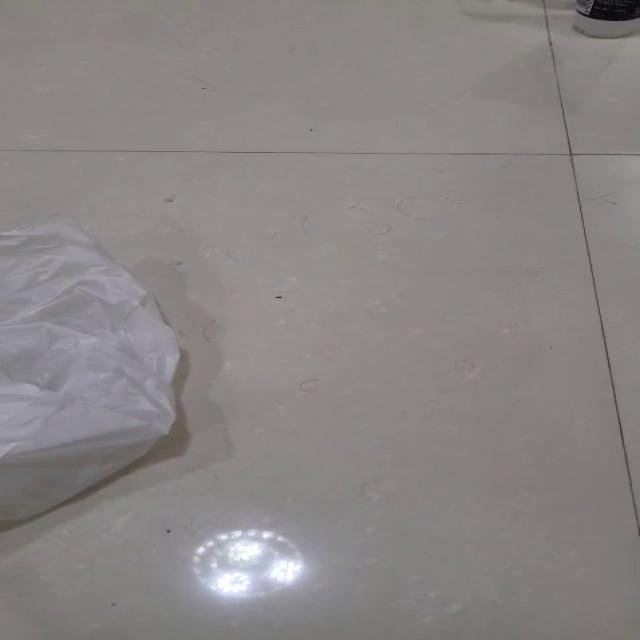plastic: (0, 214, 181, 522)
